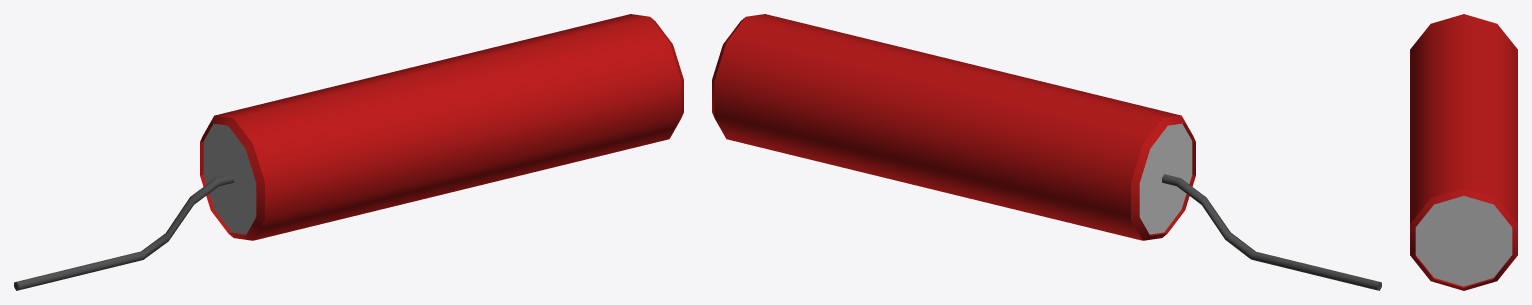
File: TNTStick_01.fbx
3 renders of one model, left to right at view 1: azimuth 30°, elevation 25°; view 2: azimuth 150°, elevation 25°; view 3: azimuth 270°, elevation 25°, orthographic. The views are drawn at different scales.
Parts seen in each view (by area): view 1: pCylinder3; view 2: pCylinder3; view 3: pCylinder3.
Part boxes in pixels (box(x1,y1,x2,y2)): pCylinder3: box(14, 14, 683, 290); pCylinder3: box(712, 14, 1381, 290); pCylinder3: box(1410, 14, 1517, 290).
Size of the model in its own units: 44.31 by 7.93 by 7.54.
